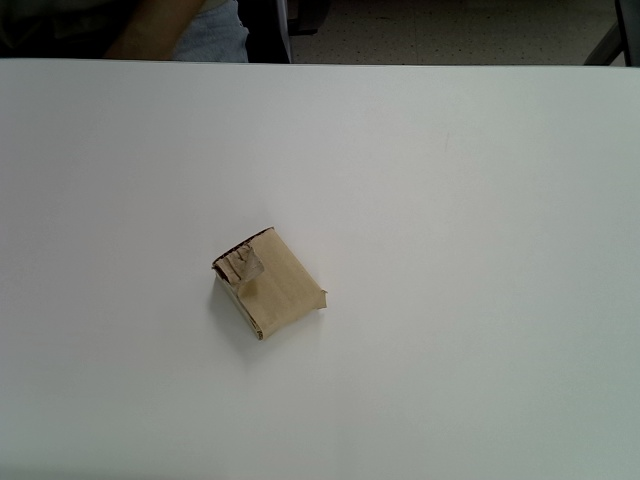defect: (211, 228, 327, 342)
